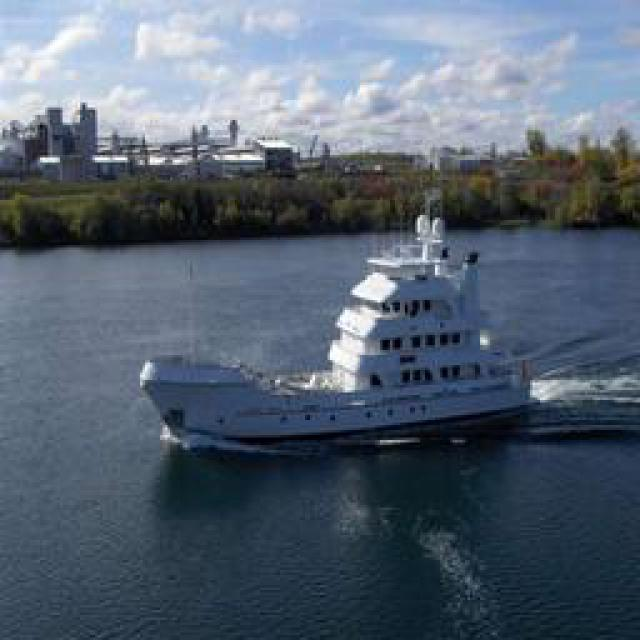Ship: (151, 239, 531, 449)
